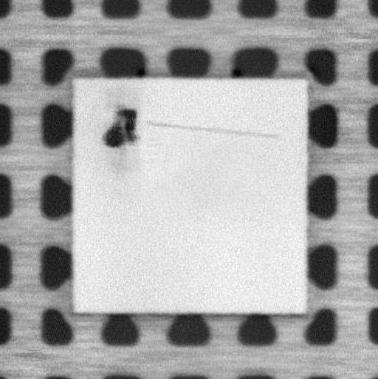DIE_CRACK: (146, 119, 281, 140)
